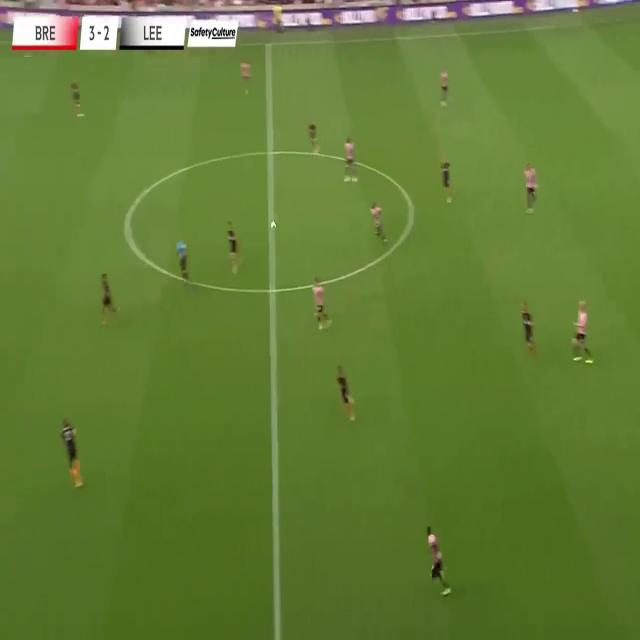Ball: (270, 220, 276, 228)
Referee: (175, 236, 192, 288)
TEAM 1: (424, 514, 452, 606), (568, 296, 597, 369), (310, 267, 335, 336), (436, 65, 455, 113), (371, 196, 388, 247), (524, 162, 540, 215), (344, 134, 358, 182), (240, 59, 252, 99)
TEAM 2: (332, 350, 360, 430), (57, 414, 84, 493), (518, 294, 539, 369), (97, 272, 120, 332), (226, 219, 244, 274), (439, 152, 452, 207), (69, 77, 86, 119), (307, 118, 320, 159)
